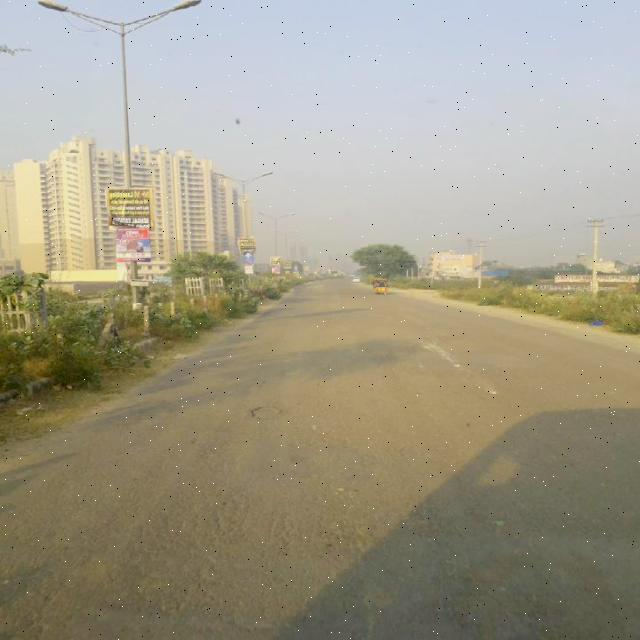D20: (39, 431, 581, 607)
D40: (245, 400, 288, 420)
D44: (417, 330, 505, 397)
